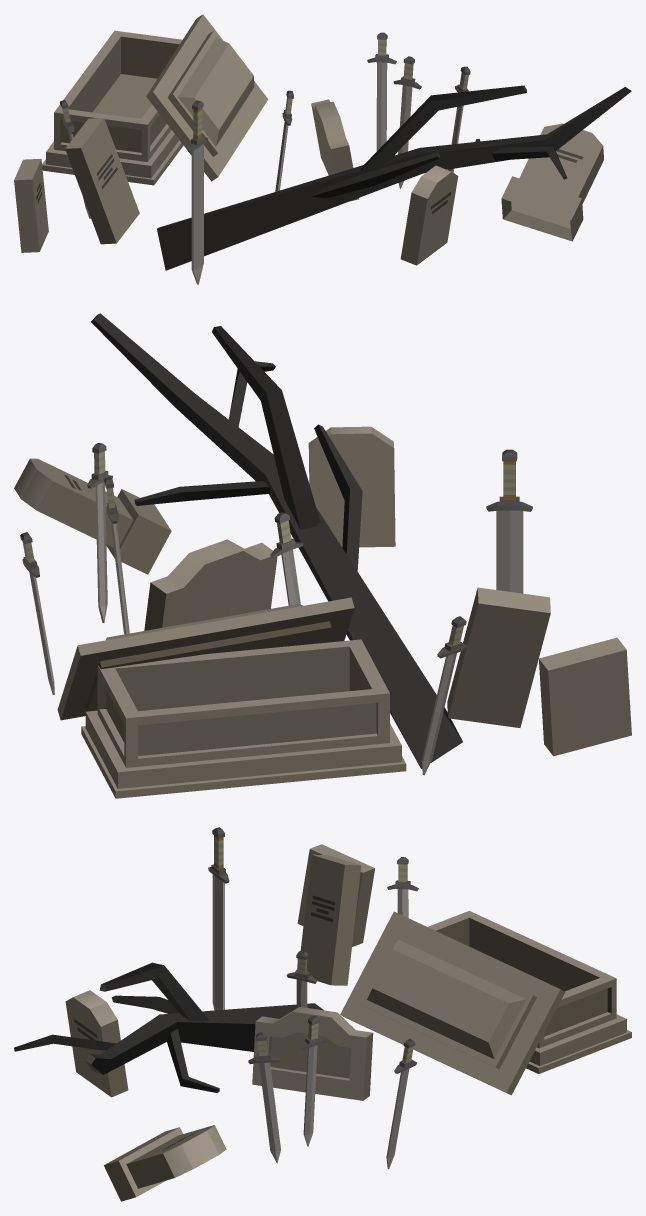
The model's file is SF_Prop_Undead_Graves_04.fbx.
3 views of the same model, one above another, from view 1: azimuth 30°, elevation 25°; view 2: azimuth 150°, elevation 25°; view 3: azimuth 270°, elevation 25° (orthographic). The views are drawn at different scales.
Visible parts, largest first — view 1: SF_Prop_Undead_Graves_04; view 2: SF_Prop_Undead_Graves_04; view 3: SF_Prop_Undead_Graves_04.
Part boxes in pixels (box(x1,y1,x2,y2)): SF_Prop_Undead_Graves_04: box(14, 14, 631, 284); SF_Prop_Undead_Graves_04: box(14, 313, 631, 798); SF_Prop_Undead_Graves_04: box(14, 827, 631, 1201).
Size of the model in its own units: 9.45 by 3.6 by 9.04.
